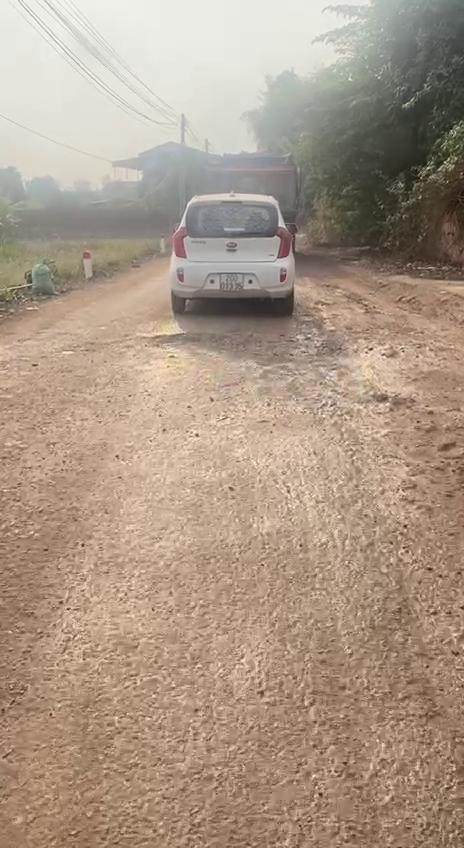pothole: (142, 328, 343, 359)
